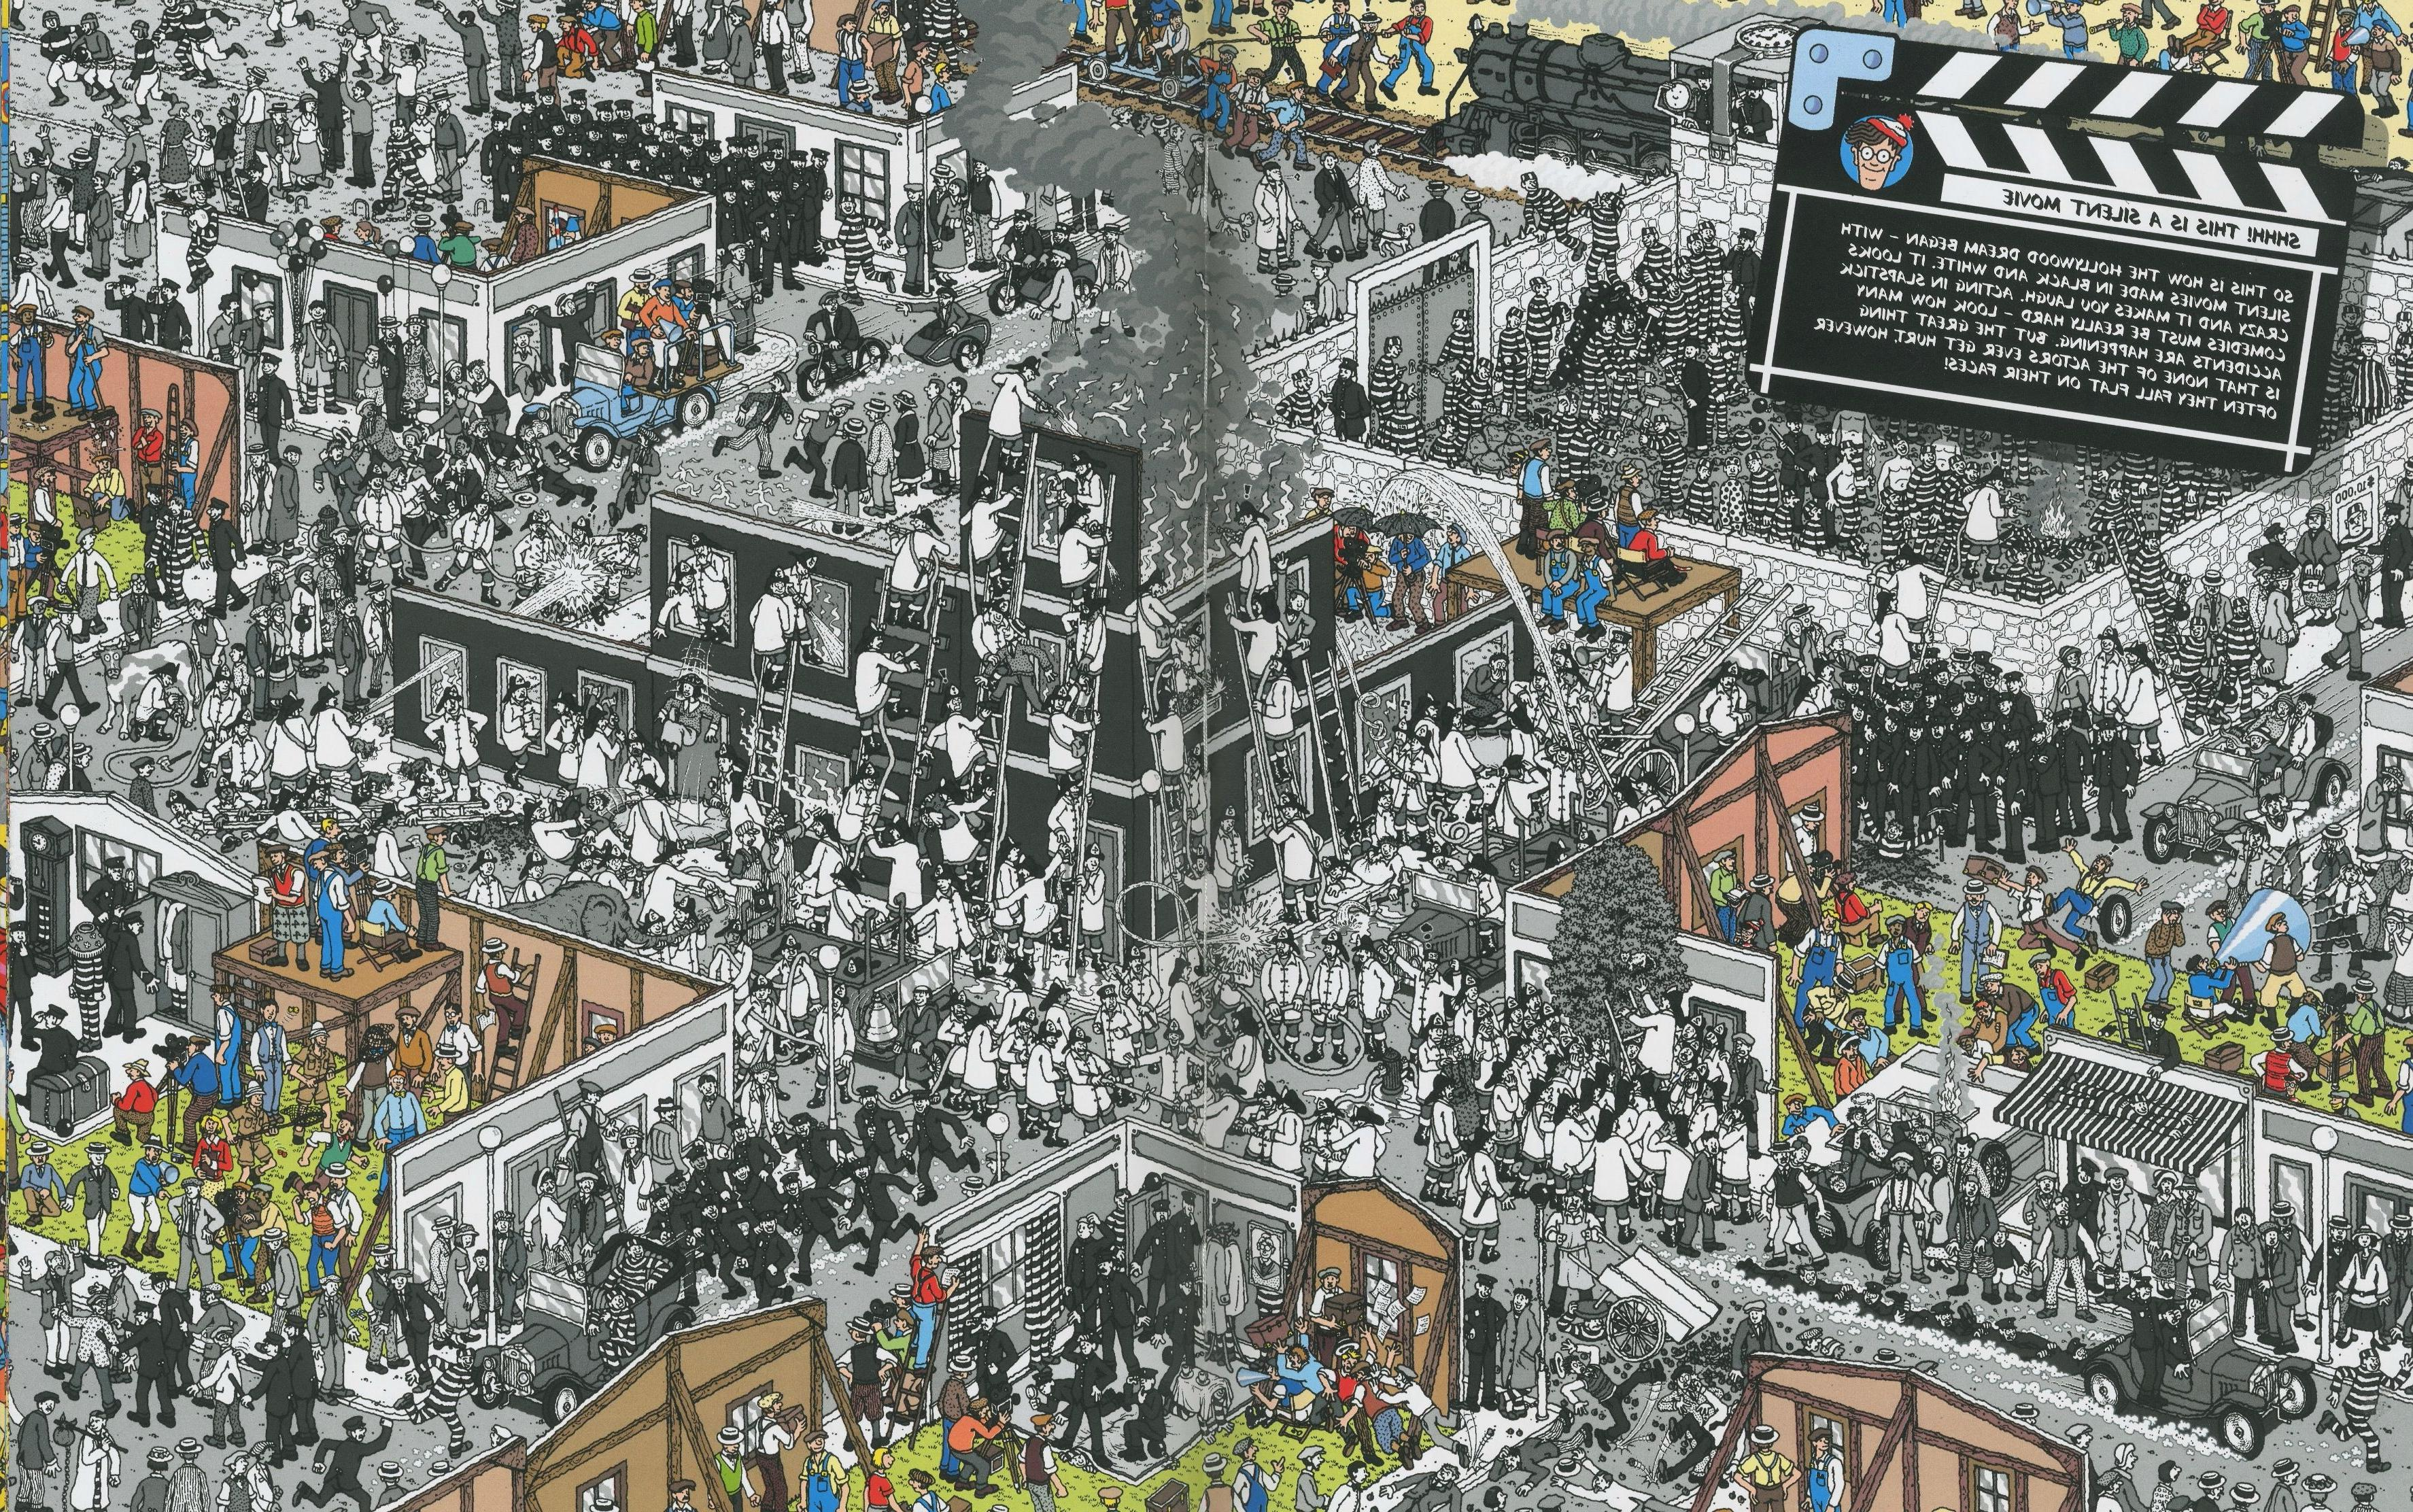waldos: (2282, 1070, 2307, 1104)
